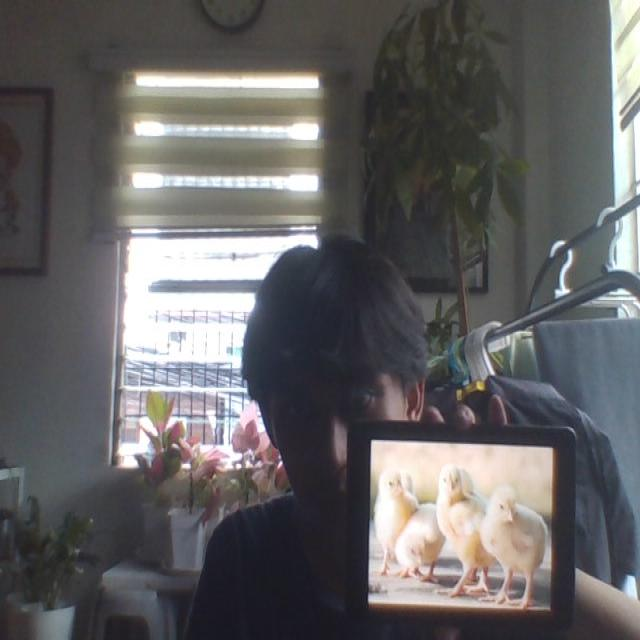Healthy: (485, 483, 546, 608), (435, 469, 492, 601), (378, 469, 414, 546)
Sick: (395, 505, 443, 585)
